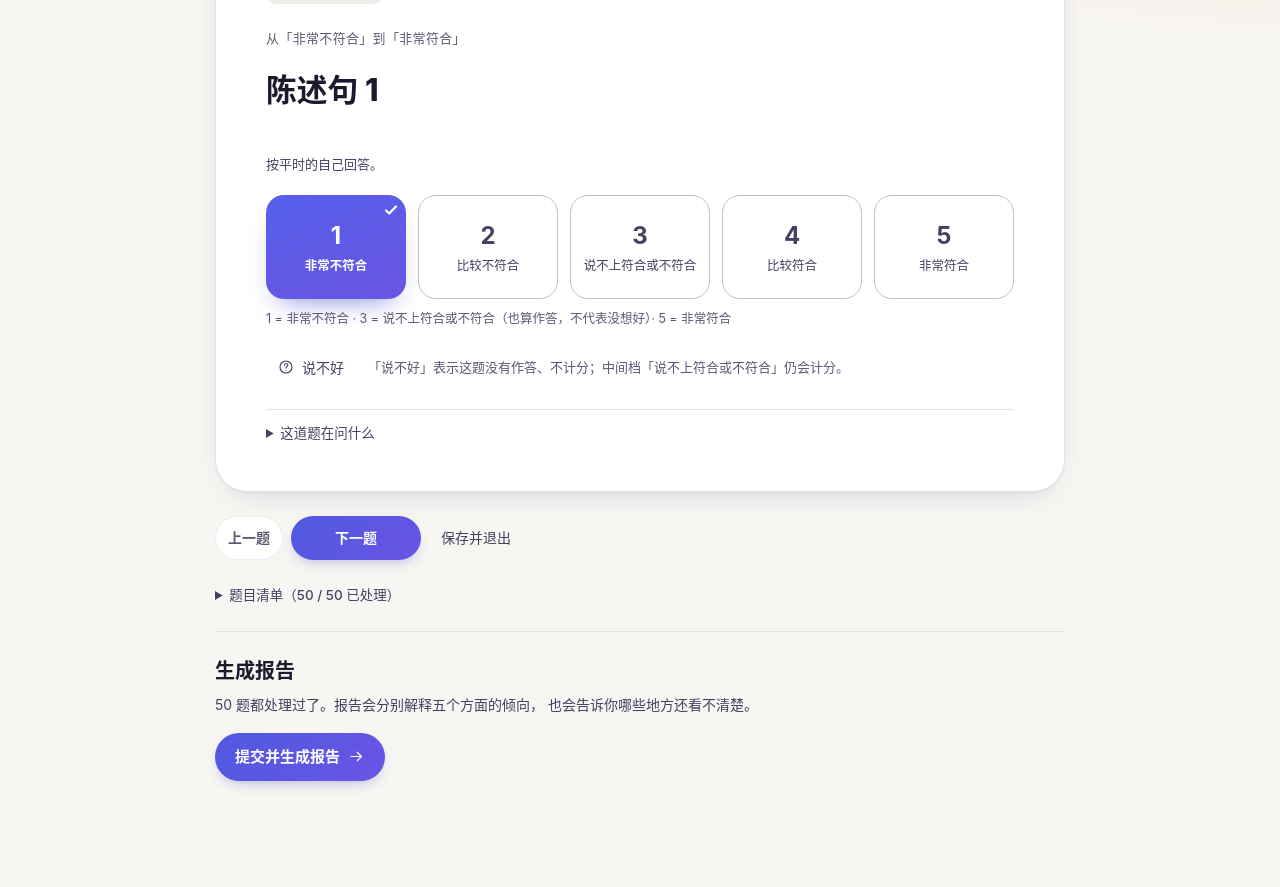
Test case: 大五答题页 › 提交撞上进度冲突时只提示去核对，不另报一条原始错误
The image size is (1280, 887).
(page scrolled)
Click the button "提交并生成报告" at (300, 757), box [215,733,385,781]
(page scrolled)
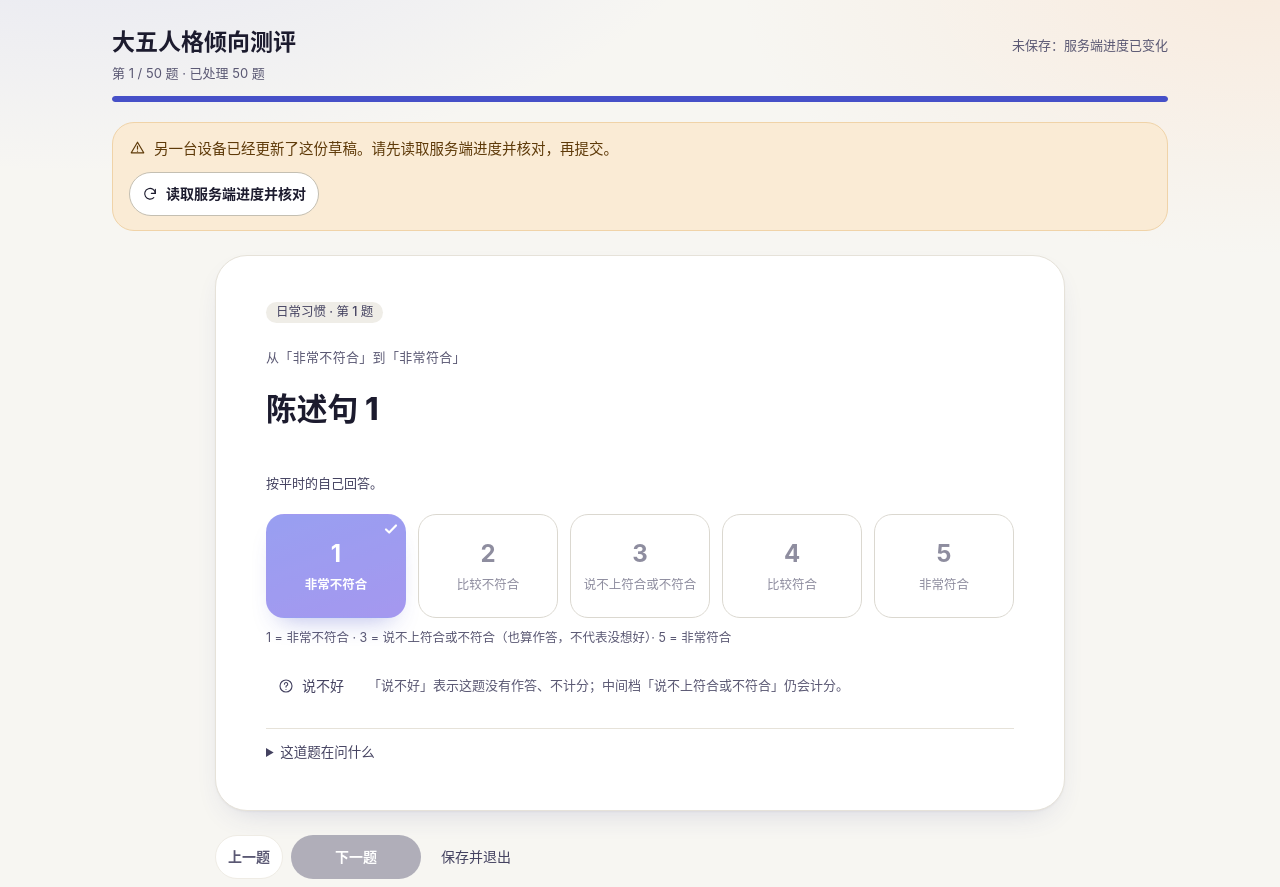
Check: the message "另一台设备已经更新了这份草稿。请先读取服务端进度并核对，再提交。 读取服务端进度并核对" is shown, box [112,122,1168,231]
